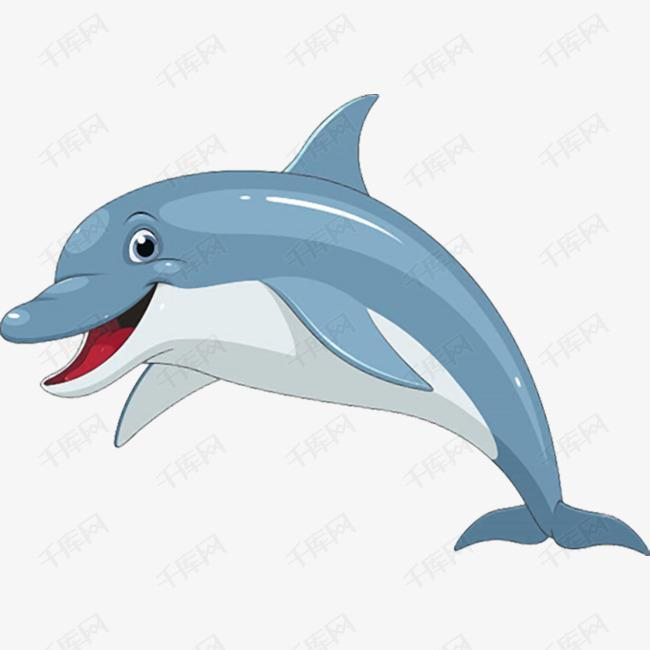fish: (3, 93, 650, 558)
